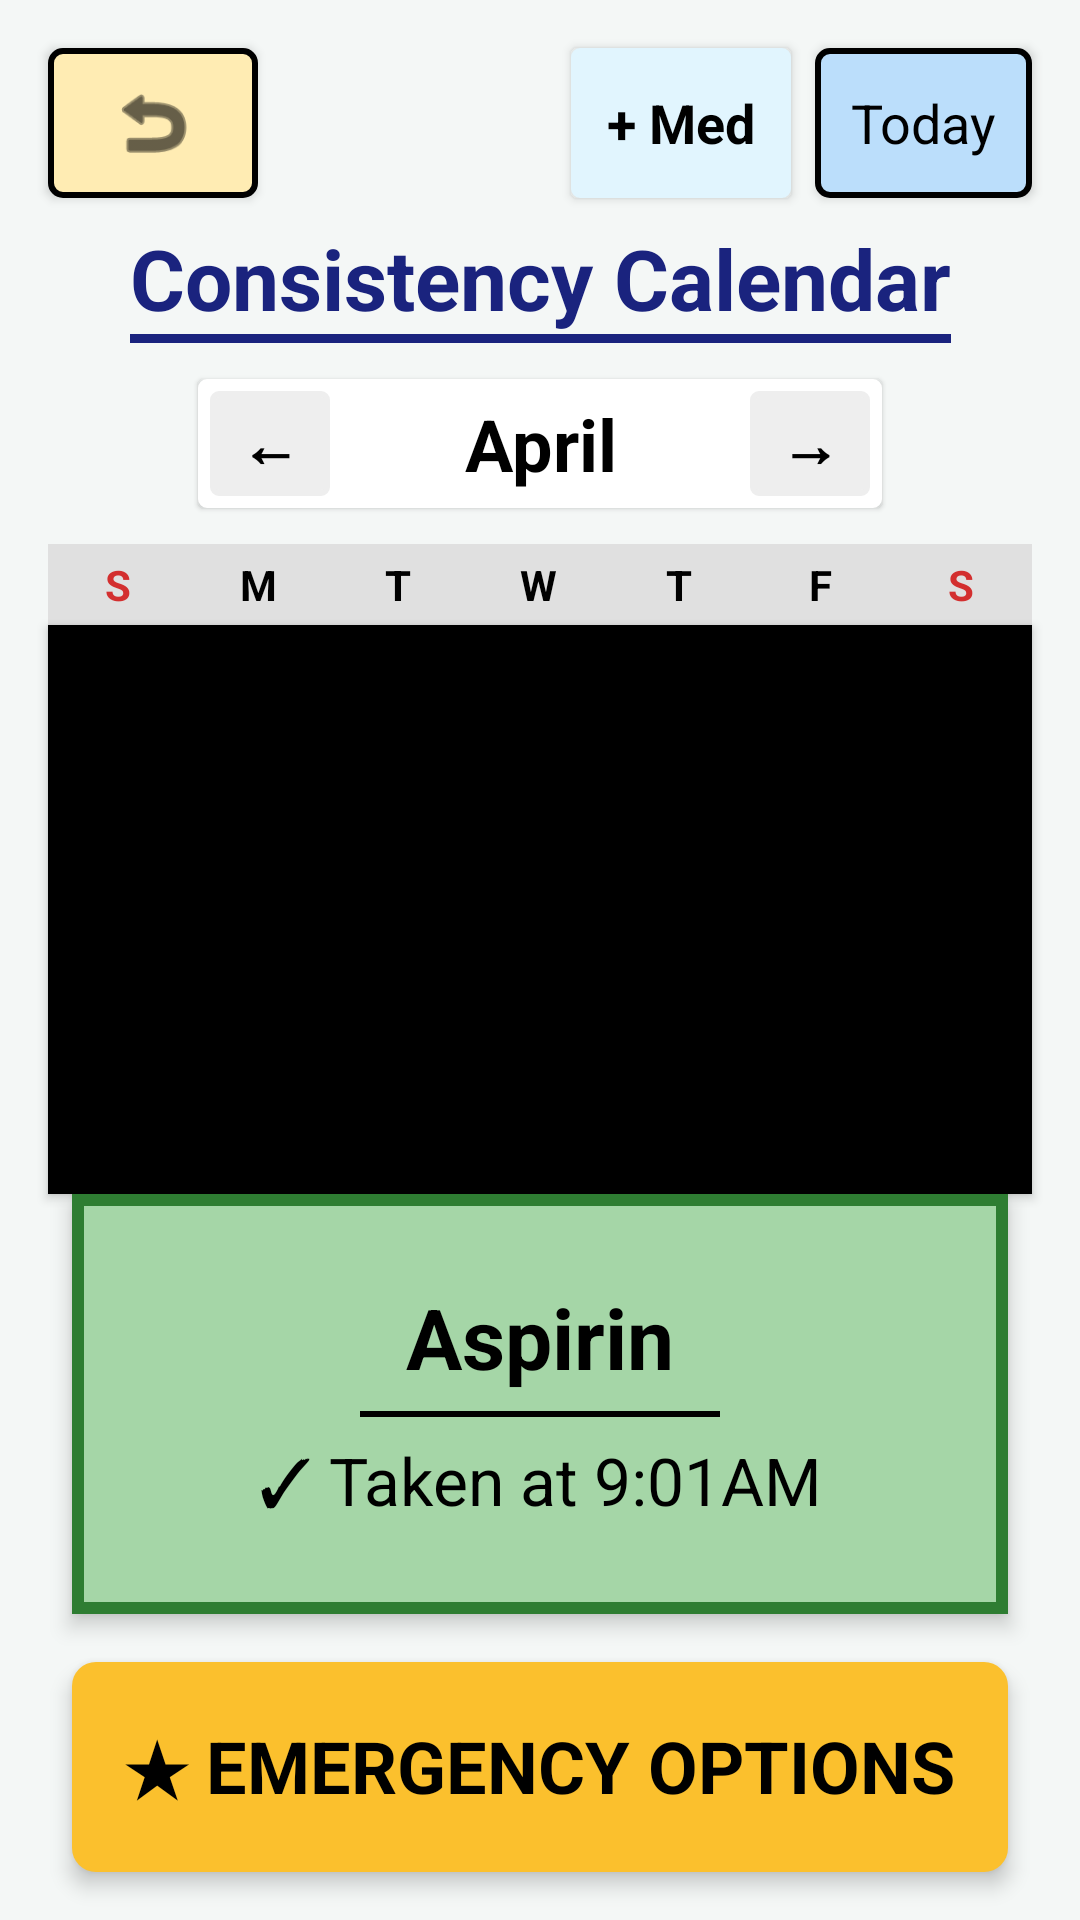

Screen size 1080x1920. Icon name, then its box in pixels as (x1, y1, x2, y2):
revert: (122, 94, 187, 153)
